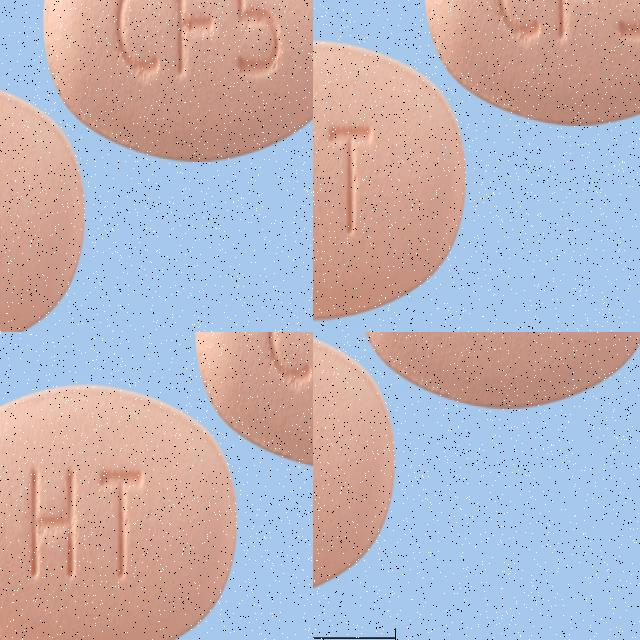Azaprine -25mg: (453, 0, 640, 324), (313, 0, 408, 323)
Cf: (0, 117, 136, 332)
Crafroxin Tab: (313, 332, 395, 605), (352, 332, 640, 408)
Dovato: (0, 392, 220, 640), (200, 332, 313, 484)
